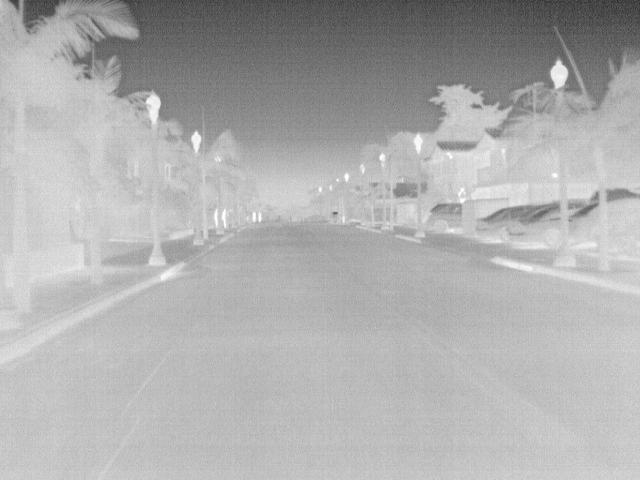car: (507, 204, 562, 248), (475, 205, 523, 240), (566, 200, 599, 244), (422, 204, 464, 232)
person: (455, 184, 470, 205), (255, 209, 264, 223), (251, 210, 259, 223)
